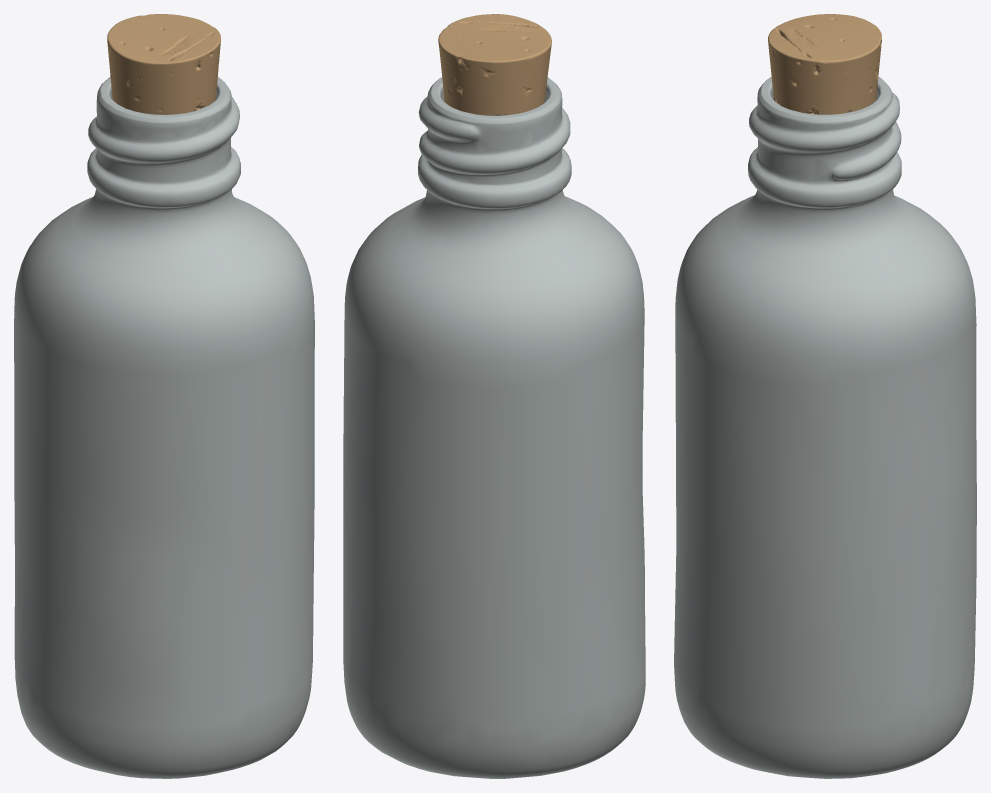
The model's file is misc_bottle_corked_a01.glb.
3 views of the same model, side by side, from view 1: azimuth 30°, elevation 25°; view 2: azimuth 150°, elevation 25°; view 3: azimuth 270°, elevation 25° (orthographic).
Size of the model in its own units: 0.0402 by 0.101 by 0.0402.
